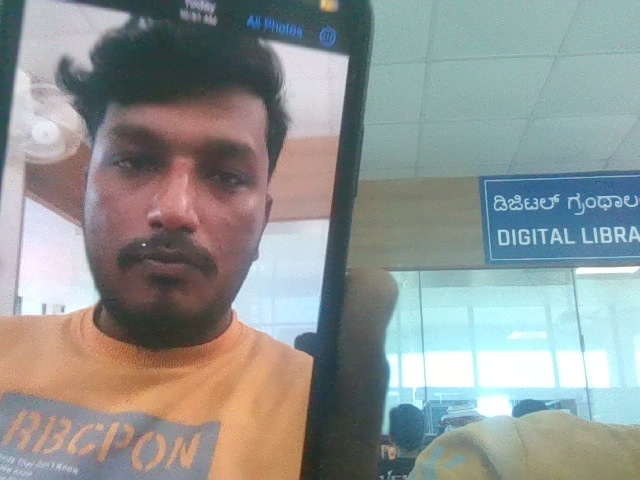fake: (55, 0, 304, 353)
